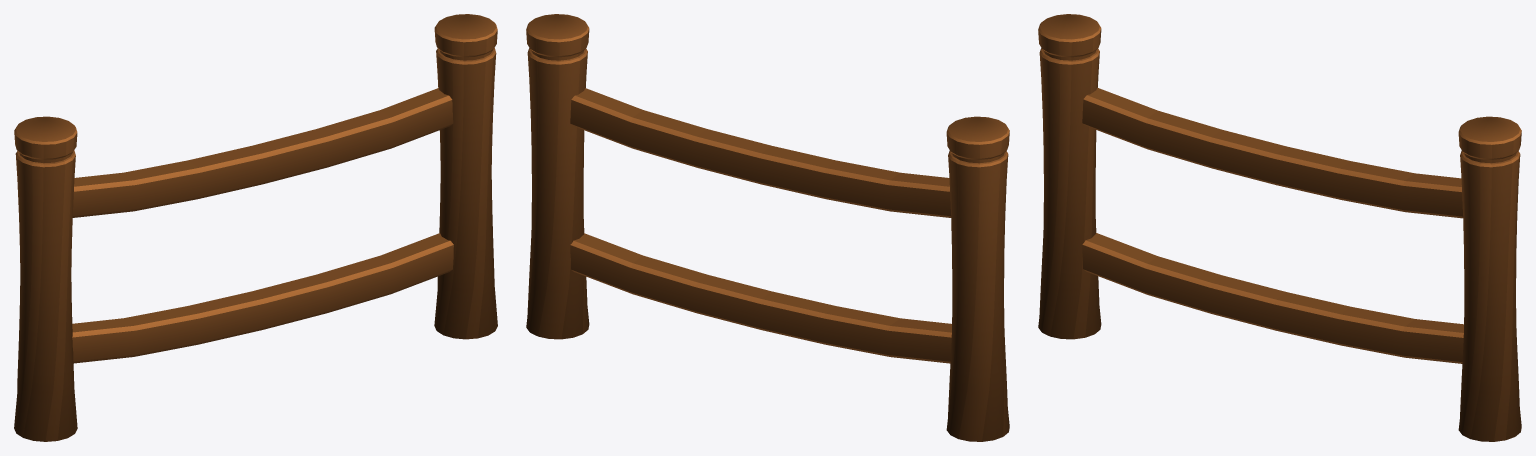
The model's file is Fence-3-1.fbx.
3 renders of one model, left to right at view 1: azimuth 30°, elevation 25°; view 2: azimuth 150°, elevation 25°; view 3: azimuth 330°, elevation 25°, orthographic.
Parts seen in each view (by area): view 1: Fence-3-1; view 2: Fence-3-1; view 3: Fence-3-1.
Boxes of the visible parts, bbox=[...] form: Fence-3-1: bbox=[14, 14, 497, 441]; Fence-3-1: bbox=[526, 14, 1009, 441]; Fence-3-1: bbox=[1038, 14, 1521, 441].
Size of the model in its own units: 252 by 158 by 28.97.
